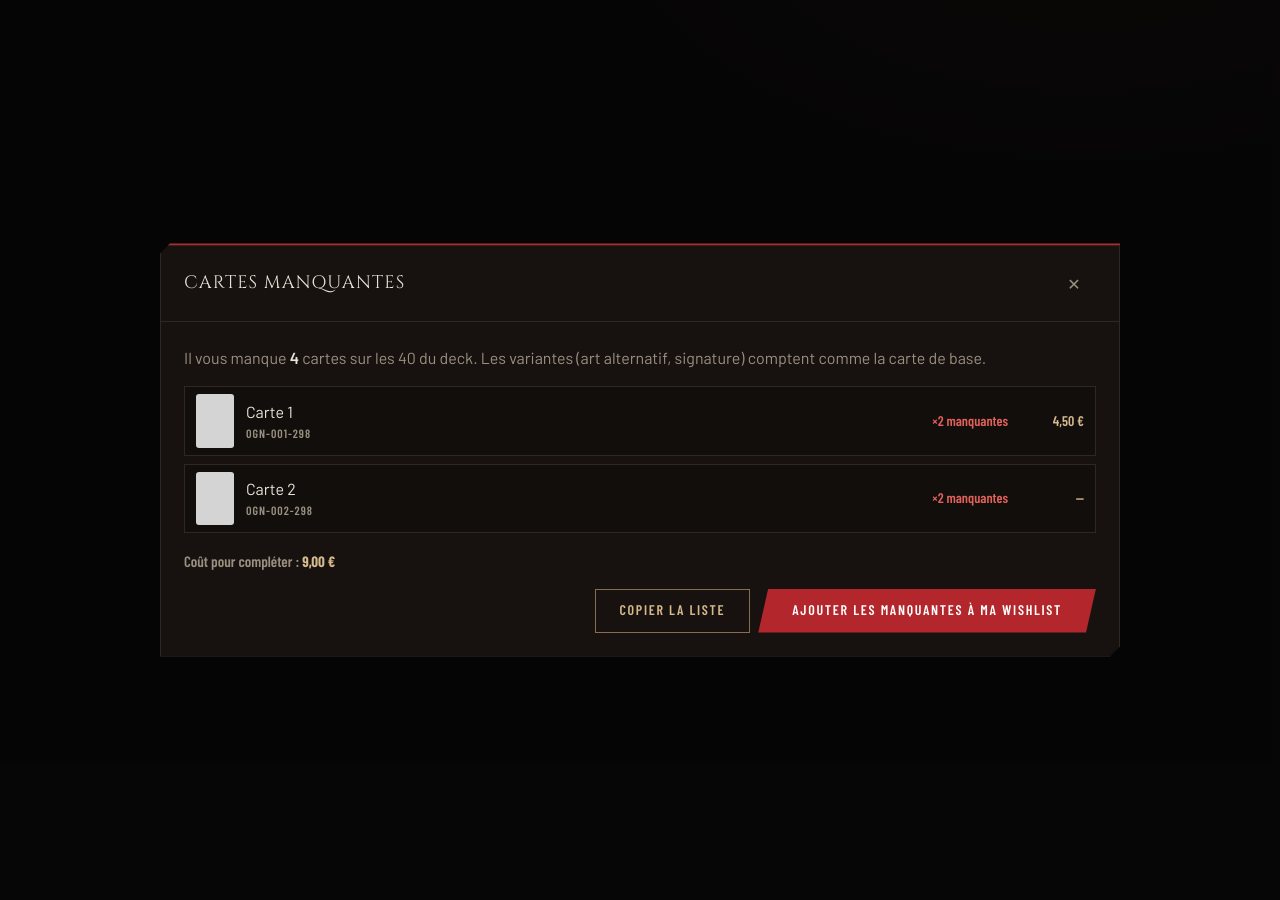
Test: DeckMissingModal › connecté : « ajouter les manquantes à ma wishlist » appelle from-deck et confirme
Check: the button "Copier la liste" is shown, box [594, 589, 750, 633]
Click the button "Ajouter les manquantes à ma wishlist" at (927, 611), box [758, 589, 1096, 633]
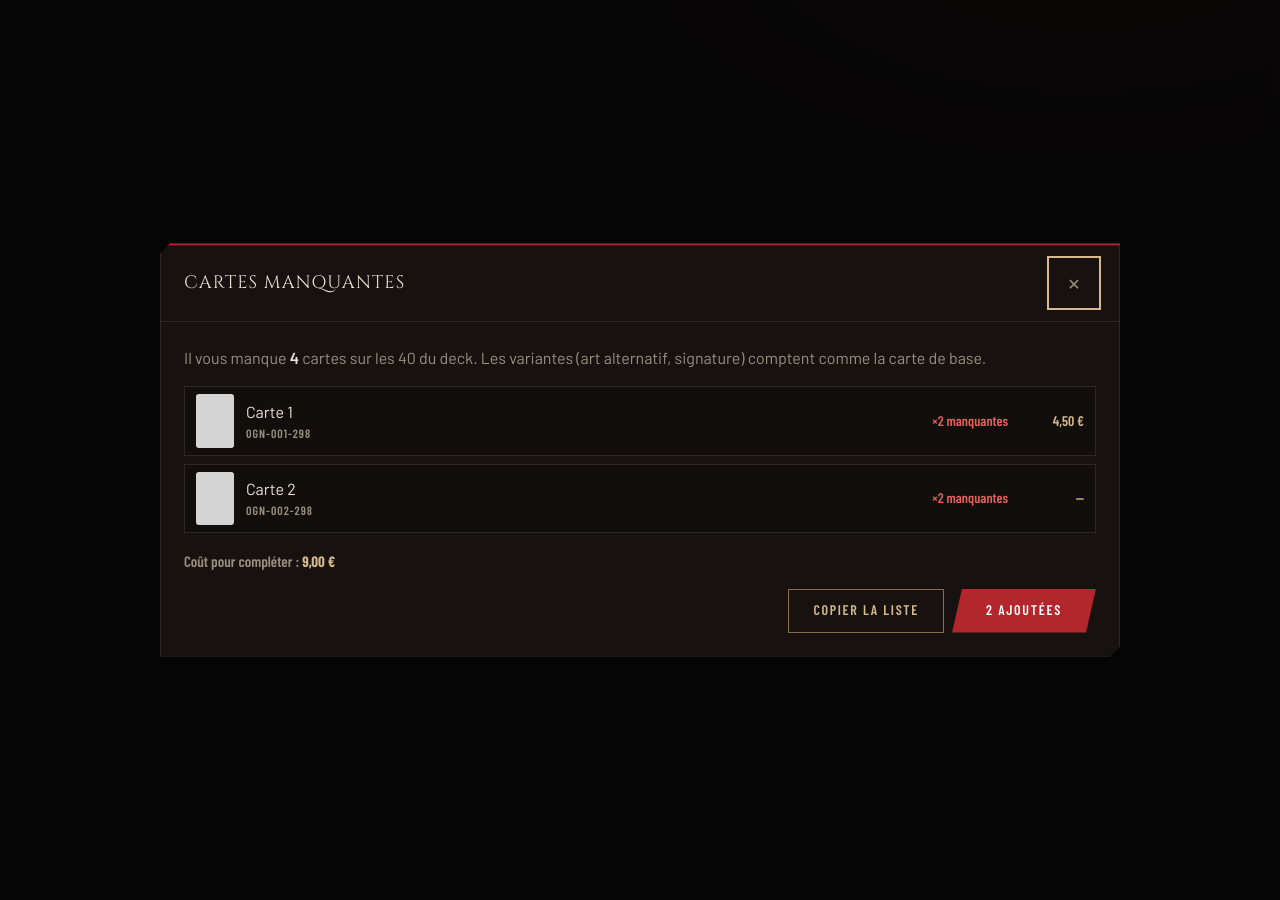
Check: the button "2 ajoutées" is shown, box [952, 589, 1096, 633]
